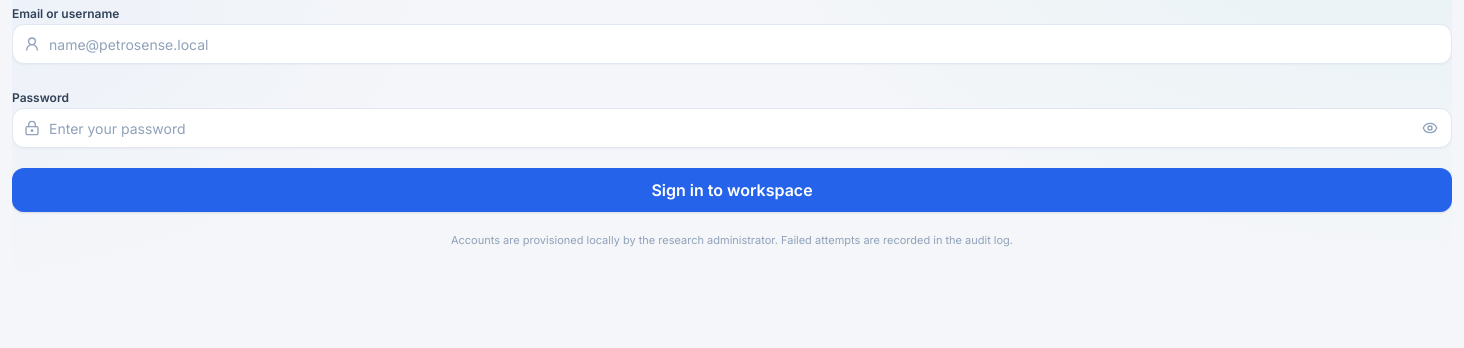
LoginForm › renders API failures with a request identifier
Type "engineer" into the field labelled "Email or username" at [732, 44], box [12,24,1452,64]
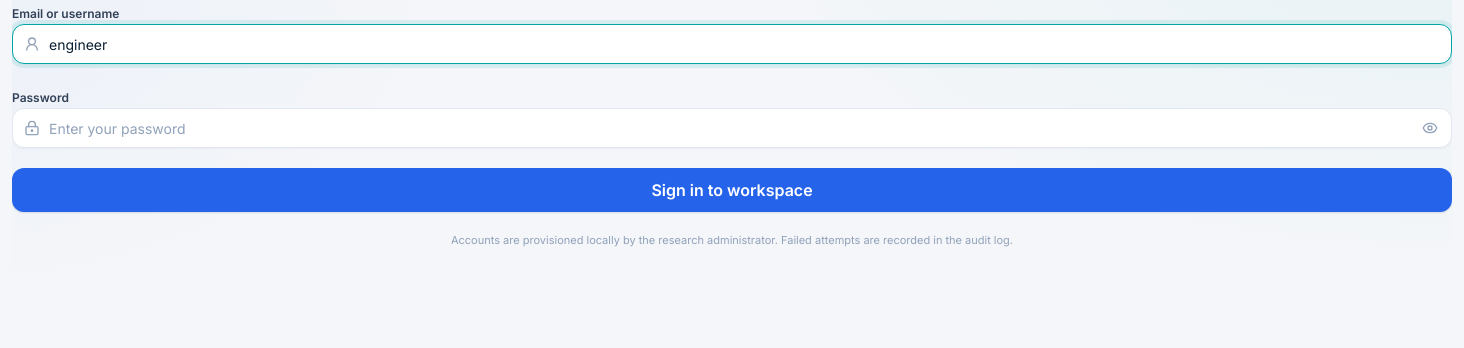
Type "WrongPass!234" into the password field labelled "Password" at [732, 128], box [12,108,1452,148]
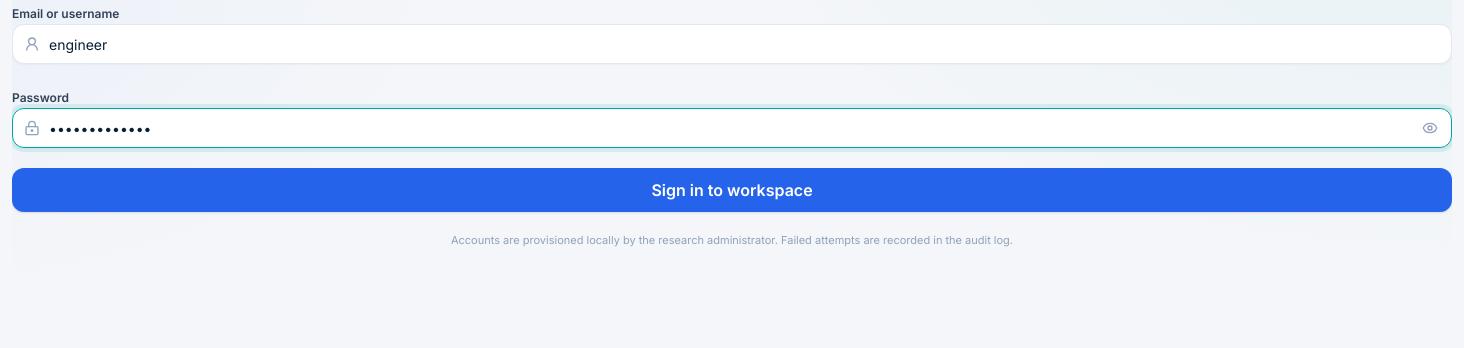
Click the button "Sign in to workspace" at [732, 190], box [12,168,1452,212]
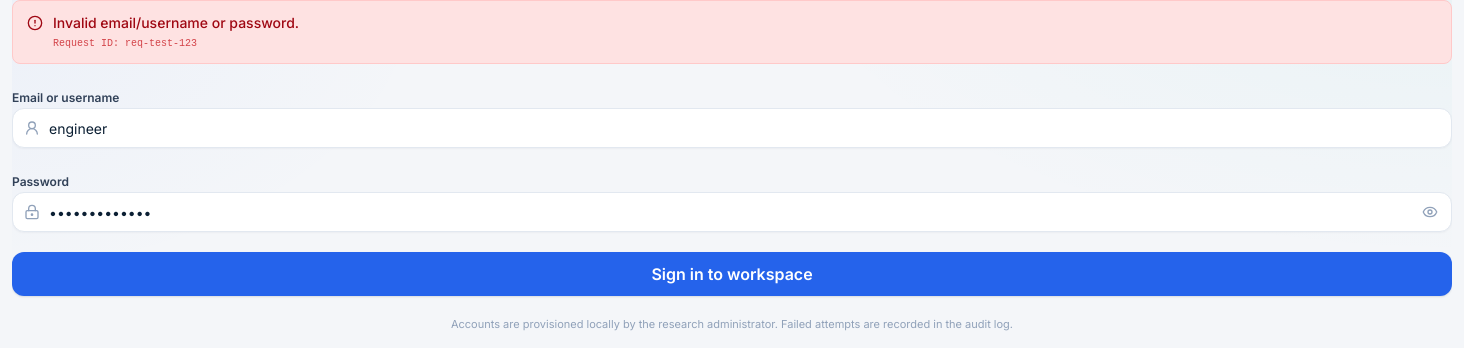
Expected: the message shows "Invalid email/username or password.", [53,14,299,31]
Expected: the text "Request ID: req-test-123" is shown, [53,38,197,49]
